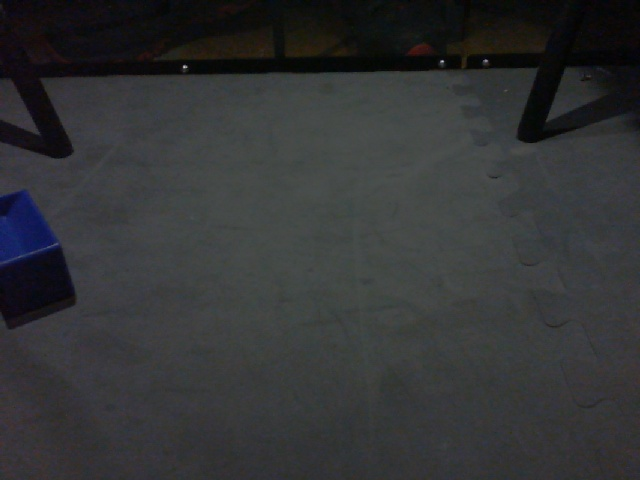BlueSample: (1, 188, 76, 318)
